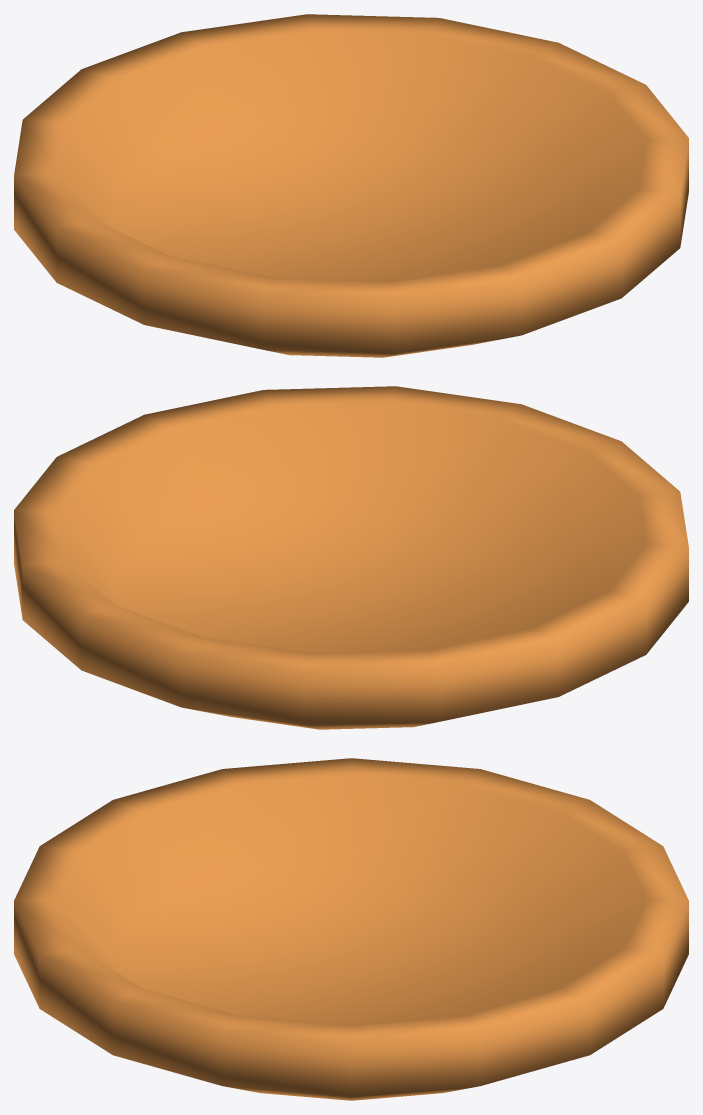
File: CandlePlate.fbx
3 renders of one model, top to bottom at view 1: azimuth 30°, elevation 25°; view 2: azimuth 150°, elevation 25°; view 3: azimuth 270°, elevation 25°, orthographic.
Visible parts, largest first — view 1: Cylinder.022; view 2: Cylinder.022; view 3: Cylinder.022.
Boxes of the visible parts, x1,y1,x2,y2 form: Cylinder.022: [14, 14, 688, 357]; Cylinder.022: [14, 386, 688, 729]; Cylinder.022: [14, 758, 688, 1100].
Size of the model in its own units: 41.18 by 6.72 by 41.18.
